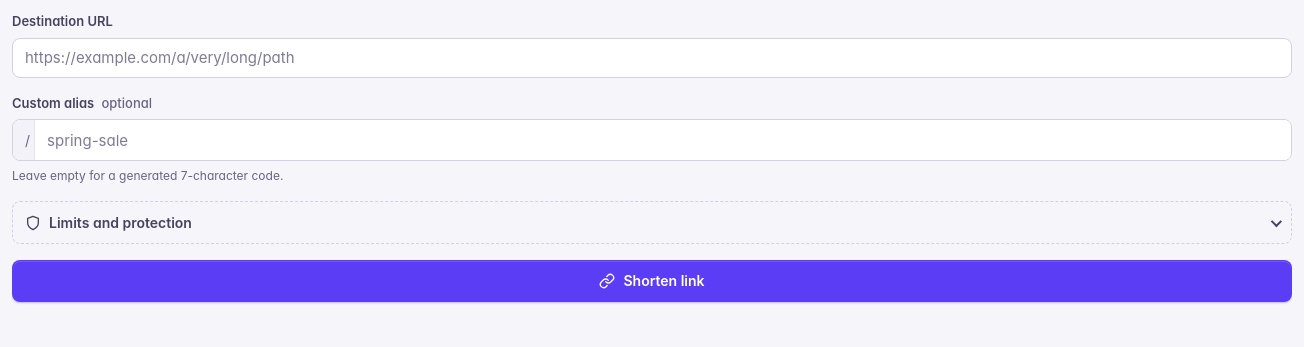
Scenario: CreateLinkForm › puts a 409 alias error next to the alias field
In the field labelled "Destination URL": [652, 58] box [12,38,1292,78], type "https://example.com"
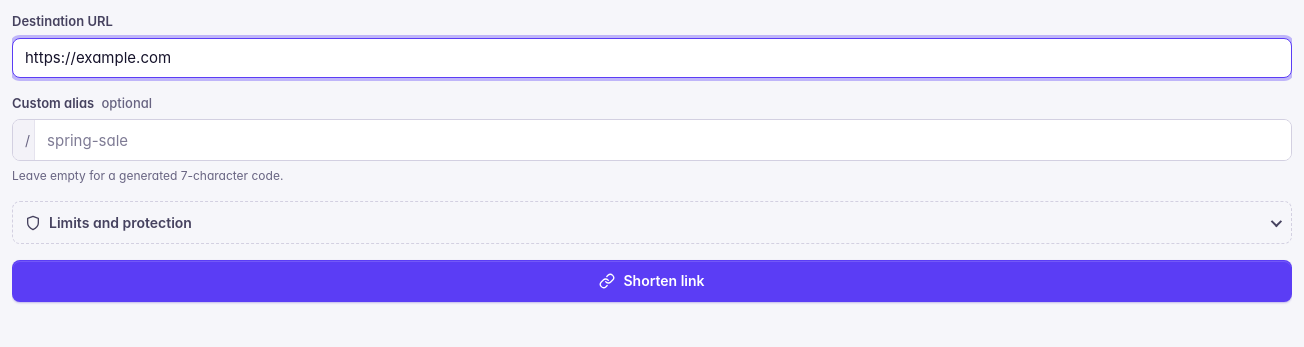
In the field labelled "Custom alias optional": [663, 140] box [35,120,1291,160], type "launch"
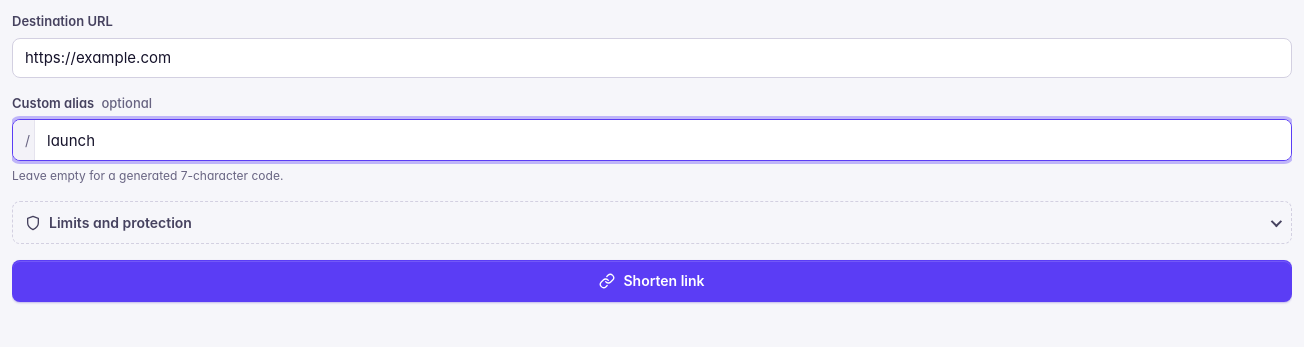
Click the button "Shorten link": [652, 281] box [12,260,1292,302]
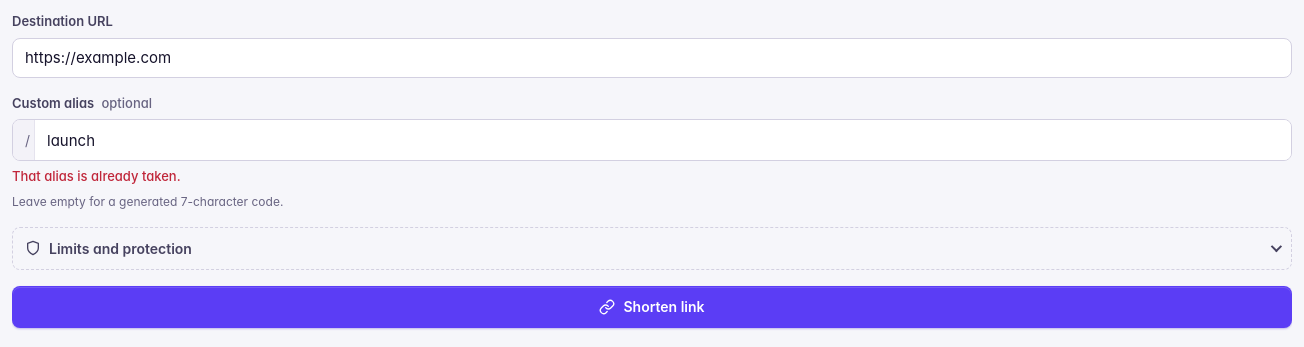
Check: the text "That alias is already taken." is shown, box [12,168,181,184]
